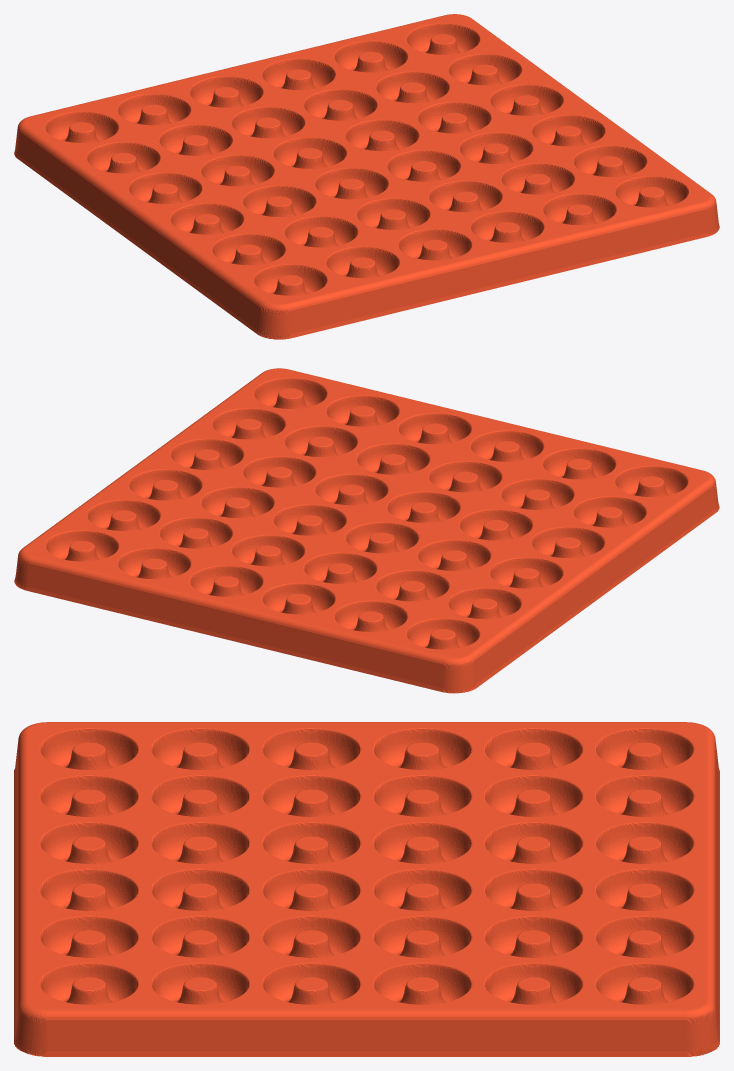
Rendered from mold.glb.
The picture shows the model from 3 angles, top to bottom: view 1: azimuth 30°, elevation 25°; view 2: azimuth 150°, elevation 25°; view 3: azimuth 270°, elevation 25°; orthographic projection. The views are drawn at different scales.
Visible parts, largest first — view 1: geometry_0; view 2: geometry_0; view 3: geometry_0.
Boxes of the visible parts, x1,y1,x2,y2 form: geometry_0: (14, 14, 719, 339); geometry_0: (14, 368, 719, 693); geometry_0: (14, 722, 719, 1056).
Size of the model in its own units: 0.1877 by 0.0121 by 0.1877.
